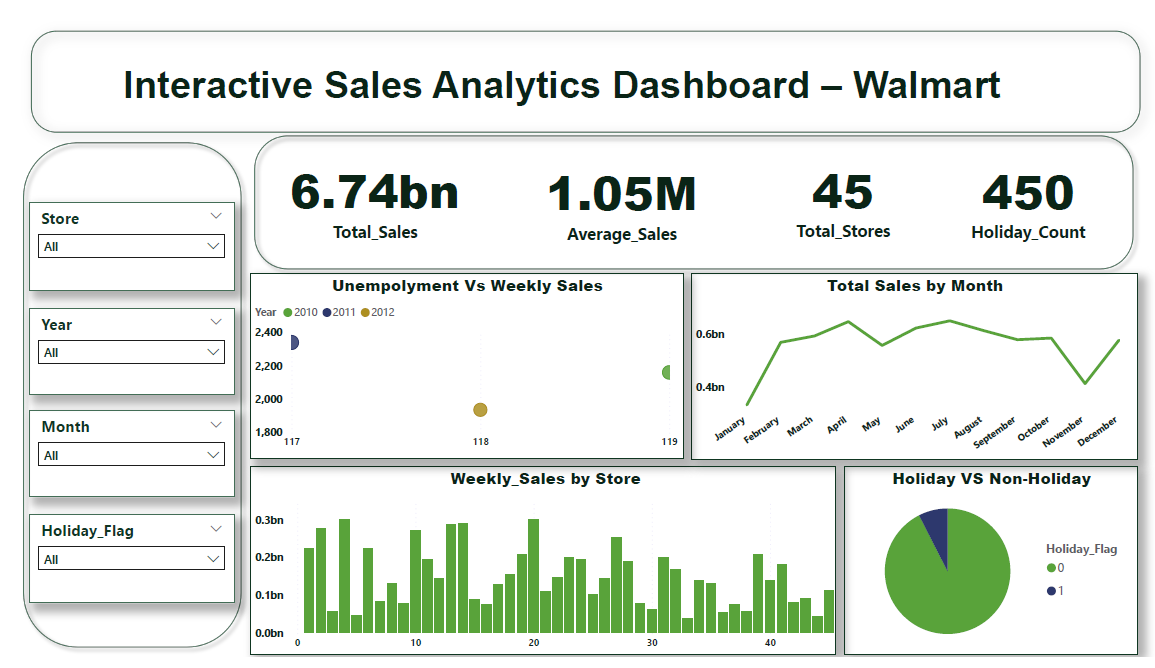

The page's visual inventory and layout, read from the dashboard file:
{"tool":"powerbi","page":{"name":"Page 1","canvas":[1280,720],"ordinal":0},"visuals":[{"type":"shape","box":[0,133.8,262.5,585],"z":0},{"type":"shape","box":[0,0,1280.5,150.1],"z":1000},{"type":"shape","box":[258.8,126.2,1005,167.5],"z":2000},{"type":"textbox","box":[116.1,0,1163.3,140.7],"z":3000},{"type":"card","fields":{"Values":["Walmart_Cleaned.Total_Sales"]},"box":[278.8,131.2,250,151.2],"z":4000},{"type":"card","fields":{"Values":["Walmart_Cleaned.Average_Sales"]},"box":[558.8,133.8,243.8,151.2],"z":5000},{"type":"card","fields":{"Values":["Walmart_Cleaned.Total_Stores"]},"box":[806.2,130,246.2,152.5],"z":6000},{"type":"lineChart","title":"Total Sales by Month","fields":{"Category":["Walmart_Cleaned.Date.Variation.Date Hierarchy.Month"],"Y":["Sum(Walmart_Cleaned.Weekly_Sales)"]},"box":[757.5,288.8,502.5,210],"z":7000},{"type":"clusteredColumnChart","title":"Weekly_Sales by Store","fields":{"Category":["Walmart_Cleaned.Store"],"Y":["Sum(Walmart_Cleaned.Weekly_Sales)"]},"box":[262.5,506.2,658.8,211.2],"z":8000},{"type":"pieChart","title":"Holiday VS Non-Holiday","fields":{"Y":["Sum(Walmart_Cleaned.Weekly_Sales)"],"Category":["Walmart_Cleaned.Holiday_Flag"]},"box":[930,506.2,330,211.2],"z":9000},{"type":"slicer","fields":{"Values":["Walmart_Cleaned.Store"]},"box":[15,208.8,231.2,100],"z":10000},{"type":"slicer","fields":{"Values":["Walmart_Cleaned.Date.Variation.Date Hierarchy.Year"]},"box":[15,327.5,231.2,98.8],"z":11000},{"type":"slicer","fields":{"Values":["Walmart_Cleaned.Date.Variation.Date Hierarchy.Month"]},"box":[15,442.5,231.2,98.8],"z":12000},{"type":"slicer","fields":{"Values":["Walmart_Cleaned.Holiday_Flag"]},"box":[15,560,231.2,100],"z":13000},{"type":"scatterChart","title":"Unempolyment Vs Weekly Sales","fields":{"X":["Count(Walmart_Cleaned.Unemployment)"],"Size":["Sum(Walmart_Cleaned.CPI)"],"Y":["Count(Walmart_Cleaned.Weekly_Sales)"],"Series":["Walmart_Cleaned.Date.Variation.Date Hierarchy.Year"]},"box":[262.5,288.8,487.5,208.8],"z":14000},{"type":"card","fields":{"Values":["Walmart_Cleaned.Holiday_Count"]},"box":[1013.8,131.2,246.2,152.5],"z":15000}]}

Visuals, with their boxes in screenshot pixels (x1, y1, x2, y2), scaled from the page's 1280x720 canvas onto the 1155x668 screenshot:
shape: BBox(0, 124, 237, 667)
shape: BBox(0, 0, 1154, 139)
shape: BBox(234, 117, 1140, 272)
textbox: BBox(105, 0, 1154, 131)
card - Walmart_Cleaned.Total_Sales: BBox(252, 122, 477, 262)
card - Walmart_Cleaned.Average_Sales: BBox(504, 124, 724, 264)
card - Walmart_Cleaned.Total_Stores: BBox(727, 121, 950, 262)
"Total Sales by Month" lineChart: BBox(684, 268, 1137, 463)
"Weekly_Sales by Store" clusteredColumnChart: BBox(237, 470, 831, 666)
"Holiday VS Non-Holiday" pieChart: BBox(839, 470, 1137, 666)
slicer - Walmart_Cleaned.Store: BBox(14, 194, 222, 286)
slicer - Walmart_Cleaned.Date.Variation.Date Hierarchy.Year: BBox(14, 304, 222, 396)
slicer - Walmart_Cleaned.Date.Variation.Date Hierarchy.Month: BBox(14, 411, 222, 502)
slicer - Walmart_Cleaned.Holiday_Flag: BBox(14, 520, 222, 612)
"Unempolyment Vs Weekly Sales" scatterChart: BBox(237, 268, 677, 462)
card - Walmart_Cleaned.Holiday_Count: BBox(915, 122, 1137, 263)
